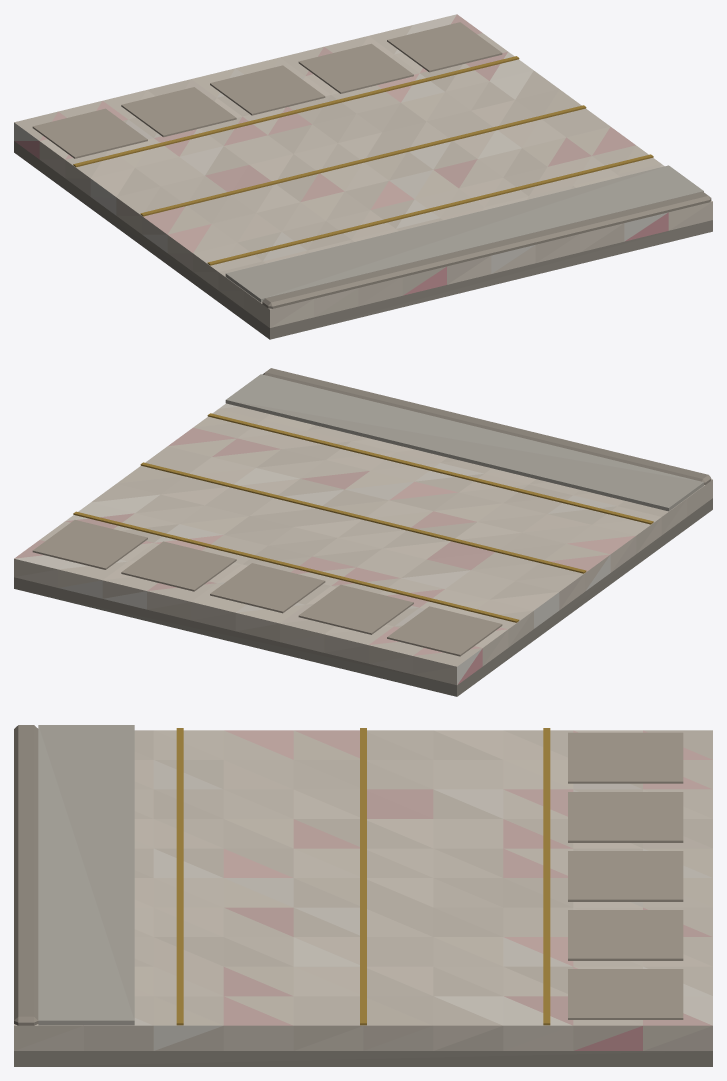
Rendered from sidewalk-straight.glb.
The picture shows the model from 3 angles, top to bottom: view 1: azimuth 30°, elevation 25°; view 2: azimuth 150°, elevation 25°; view 3: azimuth 270°, elevation 25°; orthographic projection. The views are drawn at different scales.
Parts seen in each view (by area): view 1: sidewalk_straight; view 2: sidewalk_straight; view 3: sidewalk_straight.
Part boxes in pixels (left/top/right/bottom): sidewalk_straight: left=14, top=14, right=712, bottom=339; sidewalk_straight: left=14, top=368, right=712, bottom=696; sidewalk_straight: left=14, top=725, right=712, bottom=1066.
Bounding box in the file's own units: 4 × 0.305 × 4.
